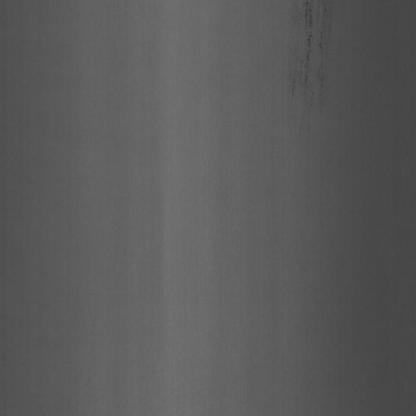inclusion: (282, 0, 342, 127)
